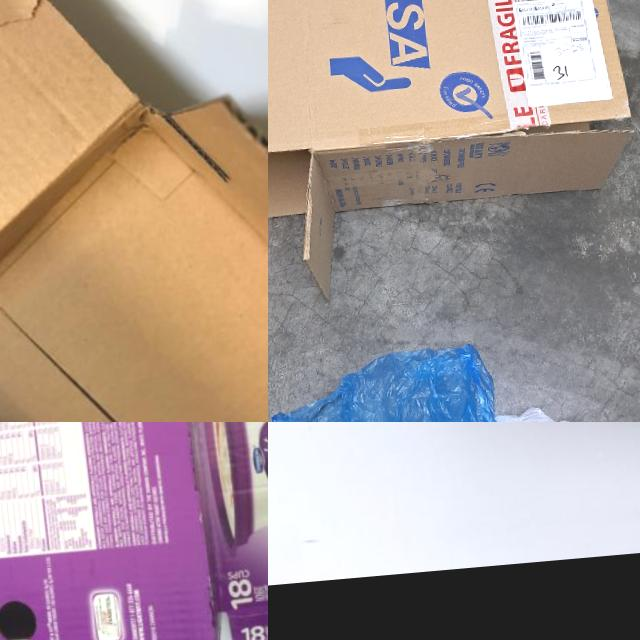papelão: (268, 0, 640, 312), (0, 0, 268, 422), (0, 422, 268, 640)
sacola plástica: (268, 339, 513, 422), (496, 400, 591, 422)
